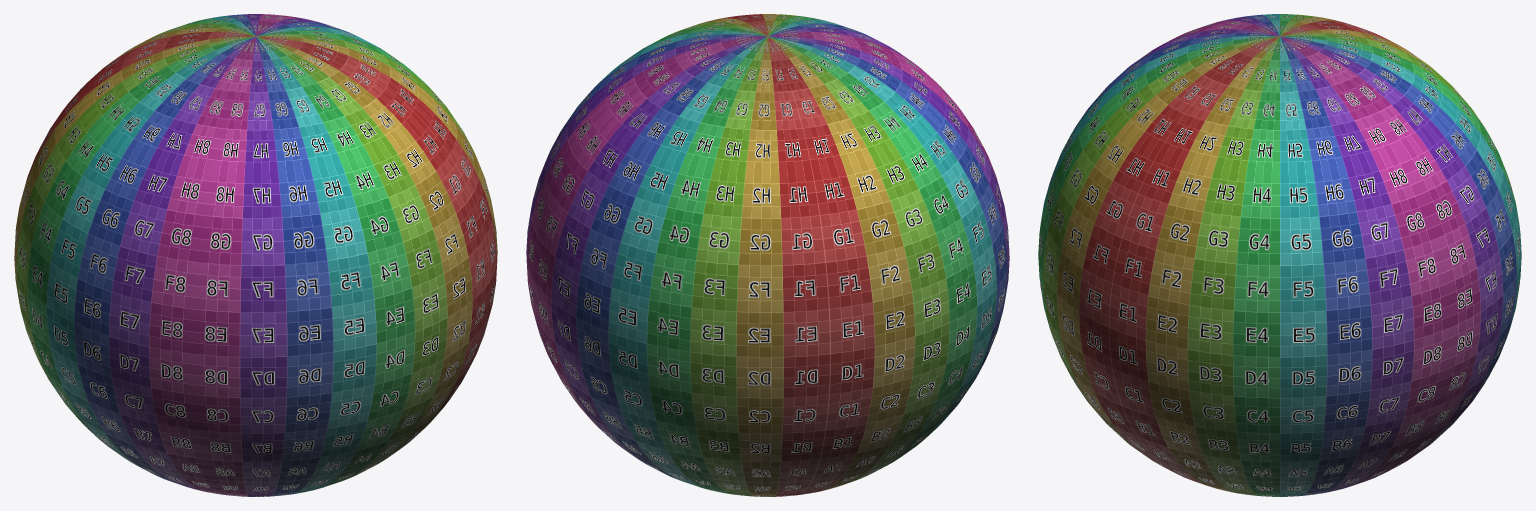
Rendered from lobby.glb.
3 renders of one model, left to right at view 1: azimuth 30°, elevation 25°; view 2: azimuth 150°, elevation 25°; view 3: azimuth 270°, elevation 25°, orthographic.
Visible parts, largest first — view 1: __DOME__; view 2: __DOME__; view 3: __DOME__.
Boxes of the visible parts, x1,y1,x2,y2 form: __DOME__: (14,14,497,496); __DOME__: (526,14,1009,496); __DOME__: (1038,14,1521,496).
Size of what is drawn, in the model's own units: 400 by 400 by 400.
Materials: 14 (2 with a texture image).
